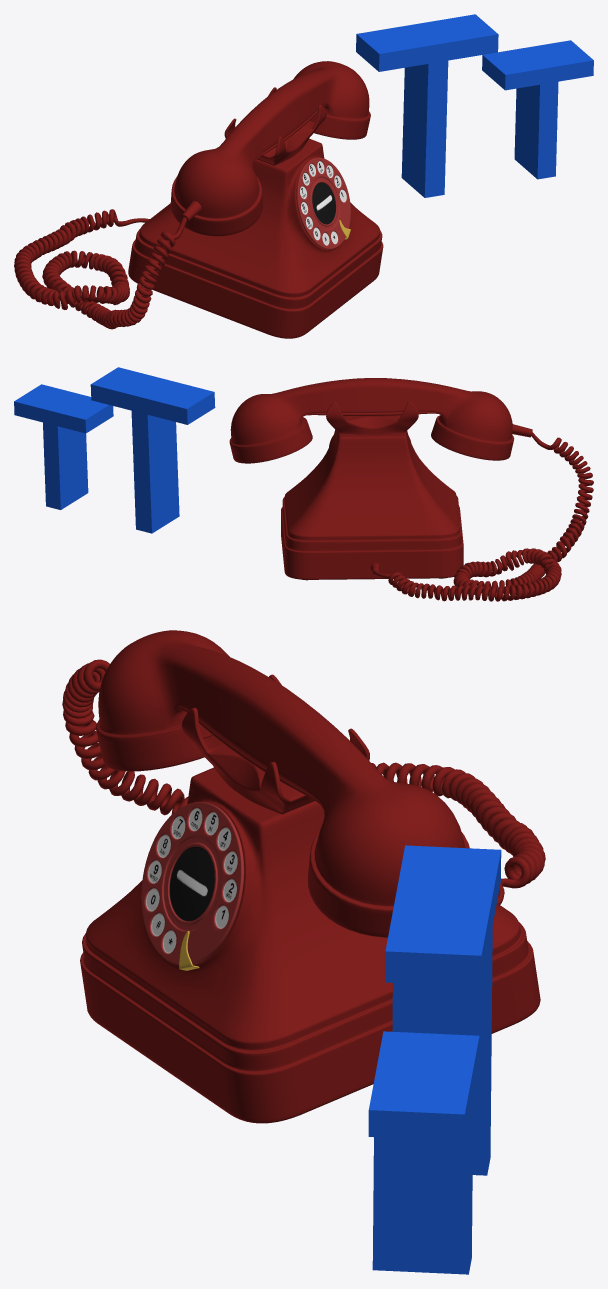
3 views of the same model, one above another, from view 1: azimuth 30°, elevation 25°; view 2: azimuth 150°, elevation 25°; view 3: azimuth 270°, elevation 25° (orthographic). The views are drawn at different scales.
Visible parts, largest first — view 1: 14024_Rotary_Phone_on_Base_v1_l2, Mesh_0.024; view 2: 14024_Rotary_Phone_on_Base_v1_l2, Mesh_0.024; view 3: 14024_Rotary_Phone_on_Base_v1_l2, Mesh_0.024.
Boxes of the visible parts, x1,y1,x2,y2 form: 14024_Rotary_Phone_on_Base_v1_l2: (14, 61, 383, 338); Mesh_0.024: (356, 14, 593, 197); 14024_Rotary_Phone_on_Base_v1_l2: (229, 378, 593, 601); Mesh_0.024: (14, 367, 215, 533); 14024_Rotary_Phone_on_Base_v1_l2: (62, 630, 545, 1123); Mesh_0.024: (368, 845, 501, 1274).
Bounding box in the file's own units: 67.01 × 22.26 × 27.37.
2 materials, 1 textured.
